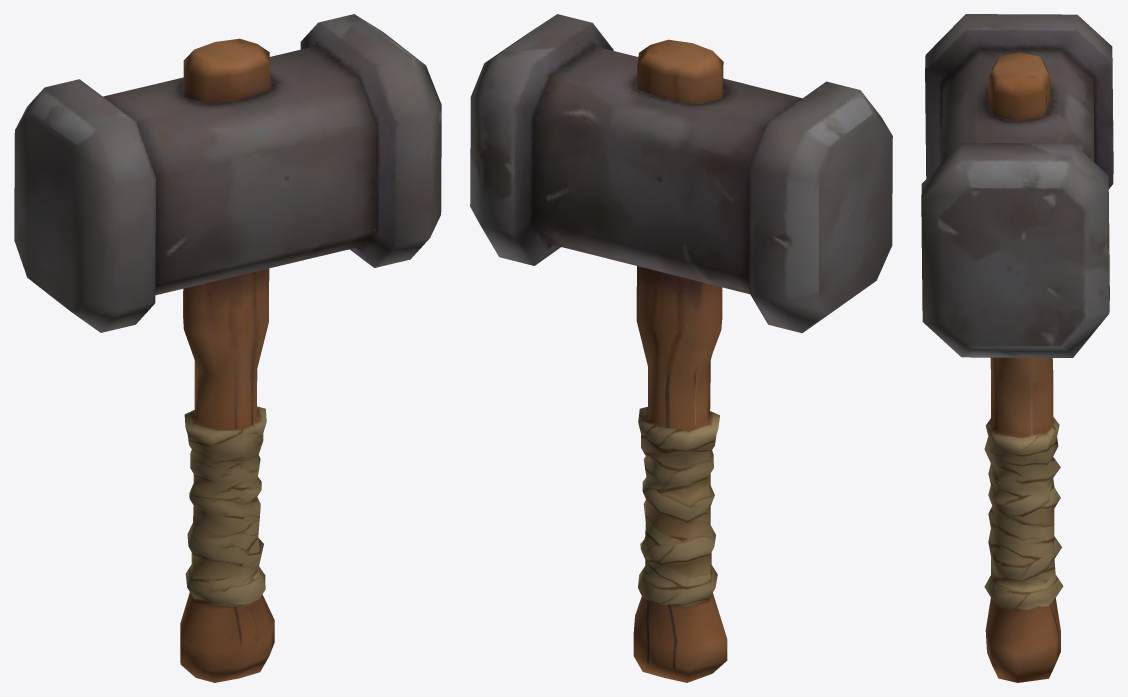
The model's file is iron_field_hammer.glb.
The picture shows the model from 3 angles, left to right: view 1: azimuth 30°, elevation 25°; view 2: azimuth 150°, elevation 25°; view 3: azimuth 270°, elevation 25°; orthographic projection. The views are drawn at different scales.
Visible parts, largest first — view 1: tripo_node_45225f35-51df-4b04-ad3a-4655f0091f72; view 2: tripo_node_45225f35-51df-4b04-ad3a-4655f0091f72; view 3: tripo_node_45225f35-51df-4b04-ad3a-4655f0091f72.
Boxes of the visible parts, box(x1,y1,x2,y2) form: tripo_node_45225f35-51df-4b04-ad3a-4655f0091f72: box(14, 14, 441, 682); tripo_node_45225f35-51df-4b04-ad3a-4655f0091f72: box(470, 14, 892, 682); tripo_node_45225f35-51df-4b04-ad3a-4655f0091f72: box(921, 14, 1113, 682).
Size of the model in its own units: 0.8692 by 1.45 by 0.4206.
Materials: 1 (1 with a texture image).
